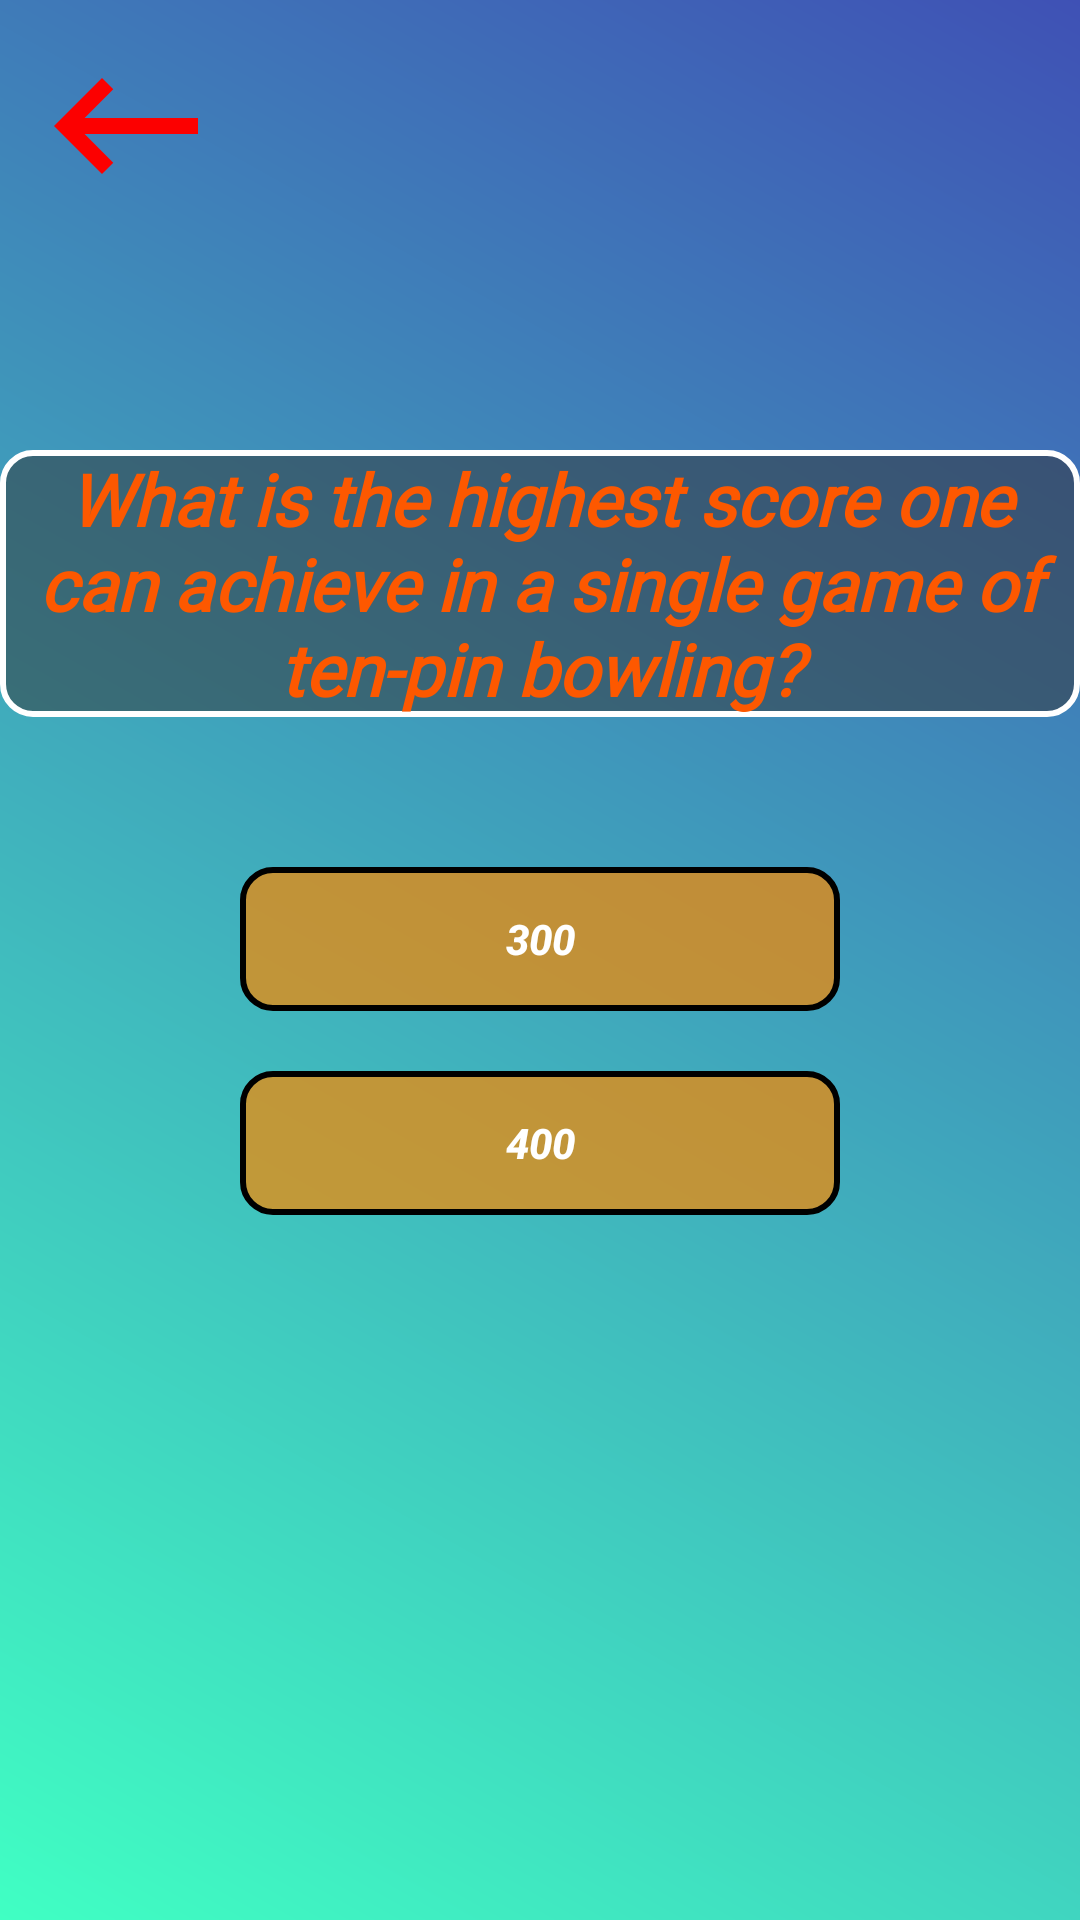

Screen size 1080x1920. Icon name, then its box in pixels as (x1=x1, y1=y1, x2=x2, y2=y2):
back: (x1=54, y1=78, x2=198, y2=174)
